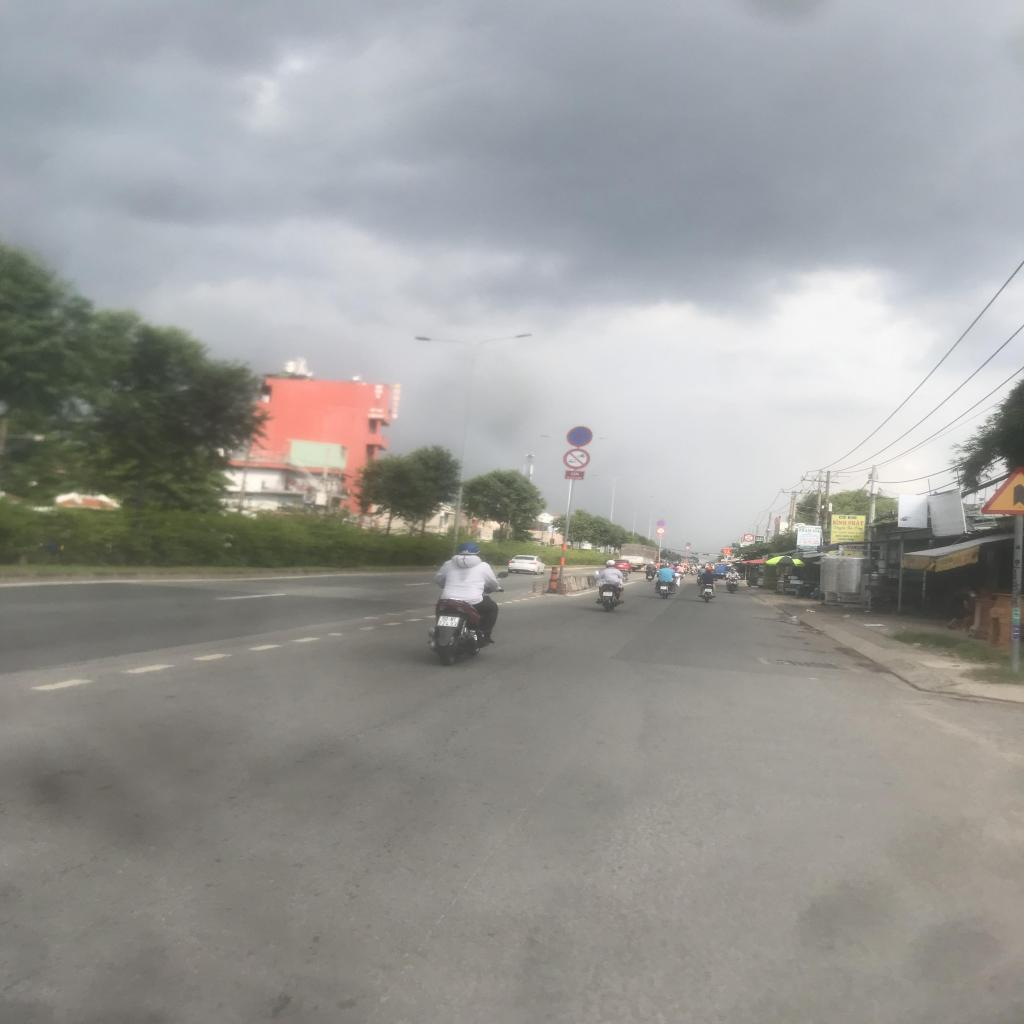cam_dung_xe_va_do_xe: (566, 425, 594, 447), (656, 520, 666, 527)
cam_o_to_tai_va_xe_khach: (743, 534, 755, 542)
cam_xe_2_banh_va_xe_3_banh_co_dong_co: (563, 449, 591, 470), (656, 527, 666, 534)
giao_nhau_voi_duong_khong_uu_tien: (978, 464, 1023, 515)
